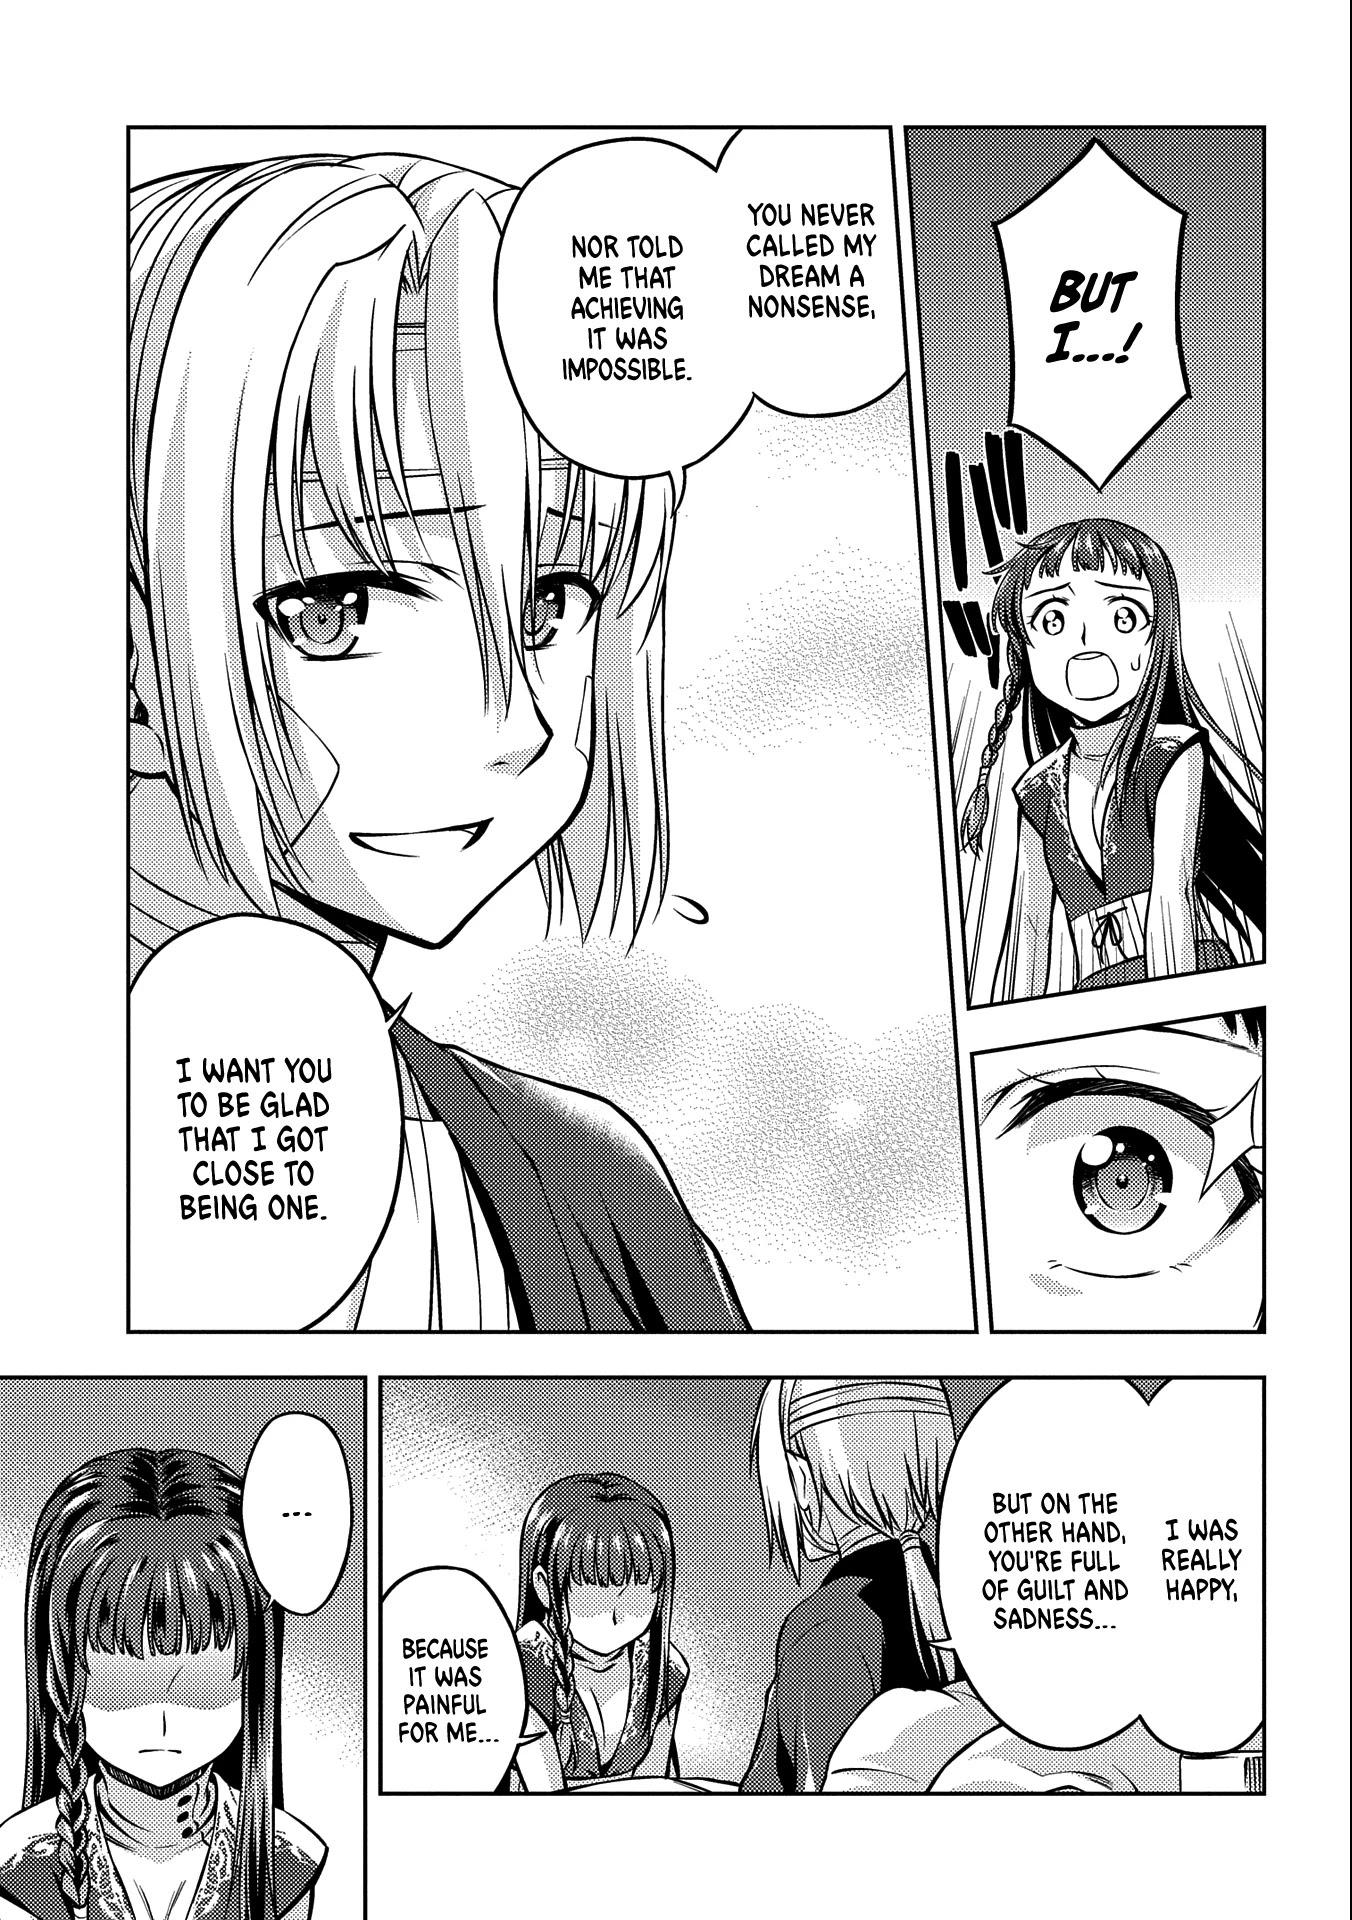Bubble: (121, 907, 407, 1340), (490, 130, 718, 486), (986, 133, 1200, 509), (938, 1365, 1138, 1753), (723, 117, 910, 421), (1149, 1373, 1272, 1760), (370, 1560, 533, 1800), (236, 1405, 358, 1619)
